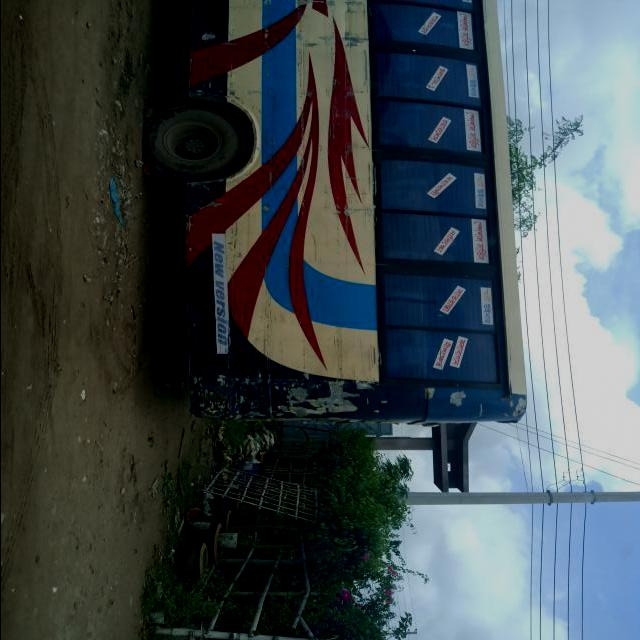bus: (141, 1, 527, 427)
